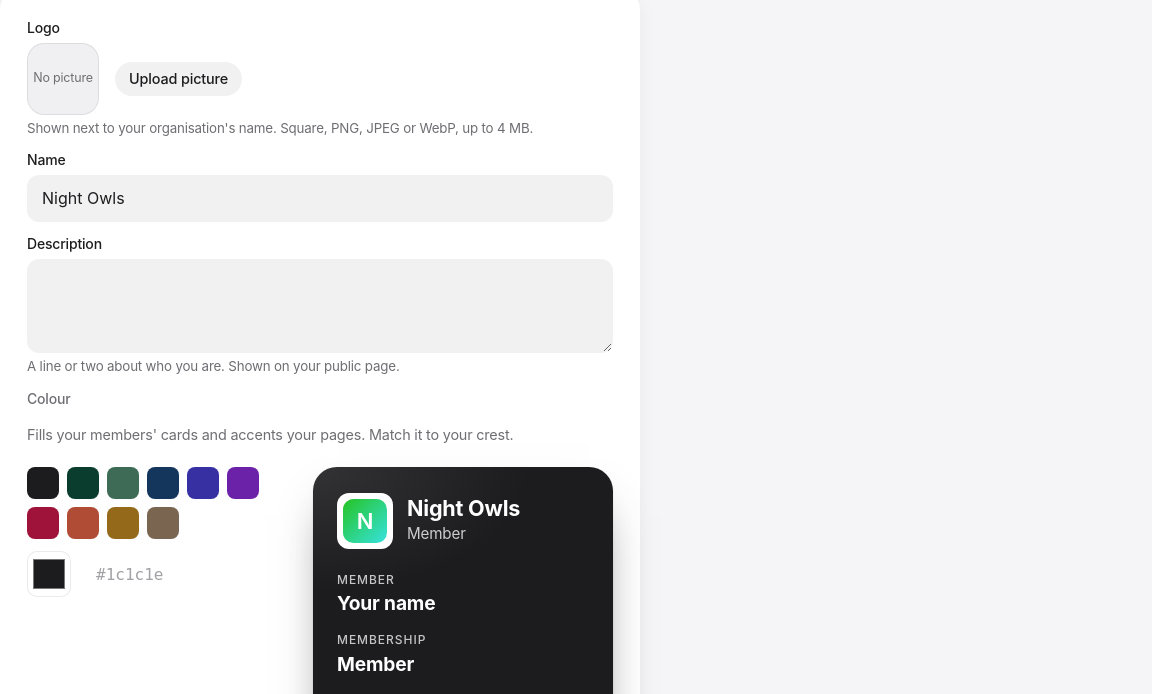
Test: SettingsTab › stays put when only the description changes
In the text box labelled "Description": (320, 306) [27,259,613,353], type "Student parties"
(page scrolled)
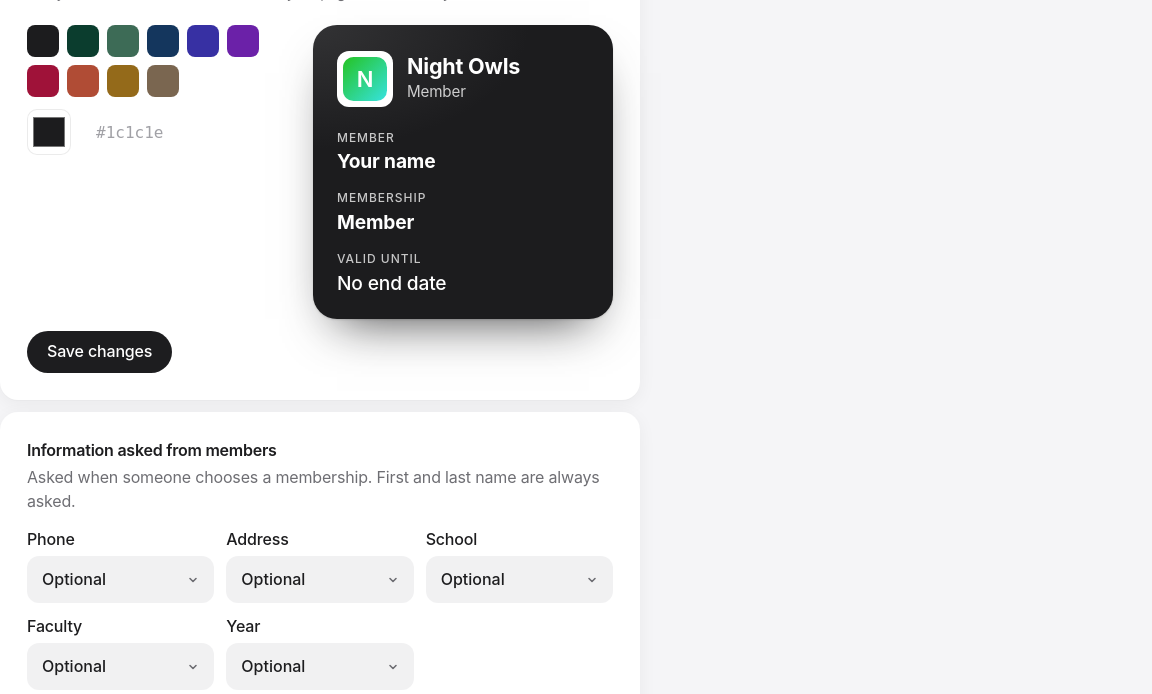
Click the button "Save changes": (100, 352) [27,331,172,373]
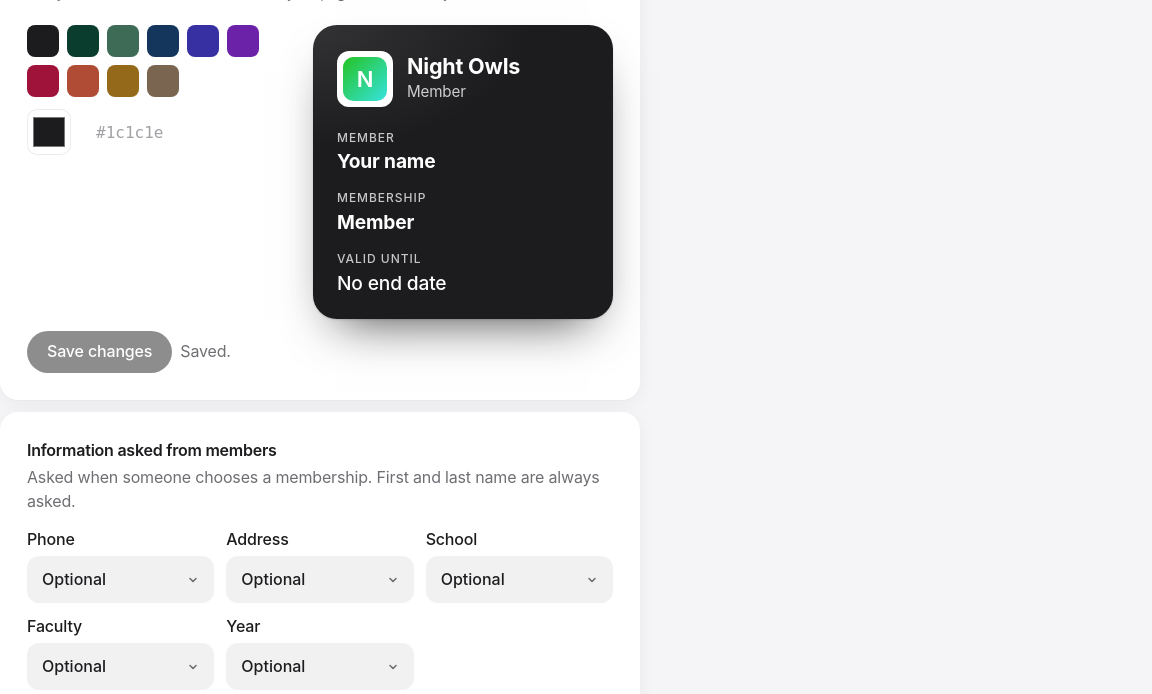
Expected: the message reads "Saved.", [180,341,231,361]
